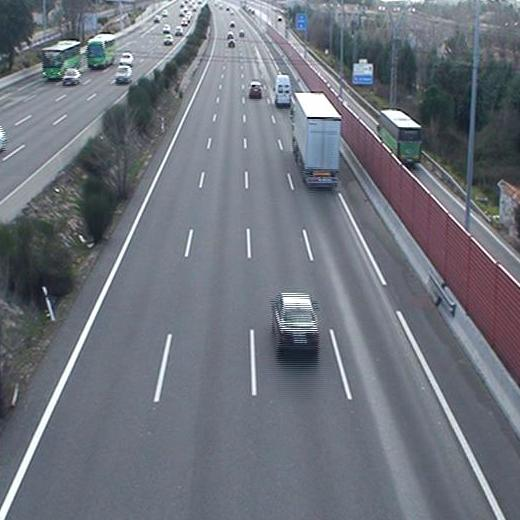car: (270, 292, 320, 355), (247, 81, 263, 98)
truck: (289, 91, 342, 191)
van: (273, 75, 292, 107)
